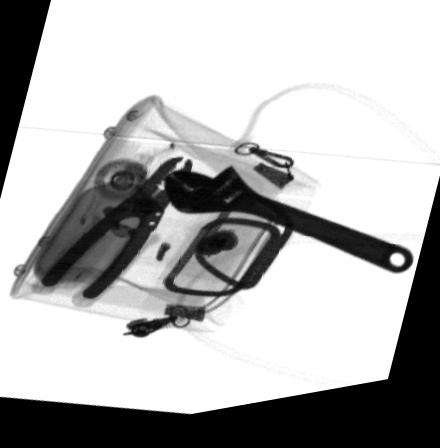Pliers: (38, 161, 191, 304)
Wrench: (163, 172, 414, 291)
